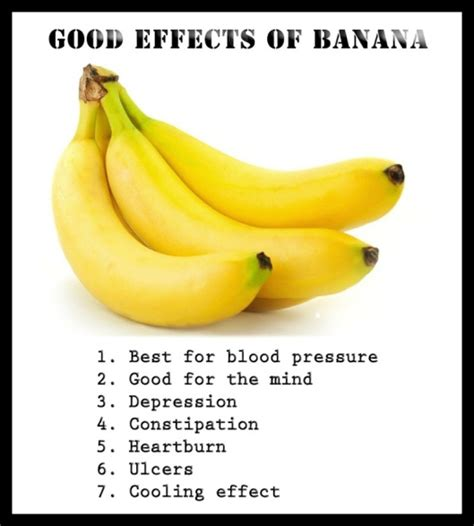banana: (100, 125, 386, 296), (51, 131, 271, 331), (135, 115, 408, 235)
